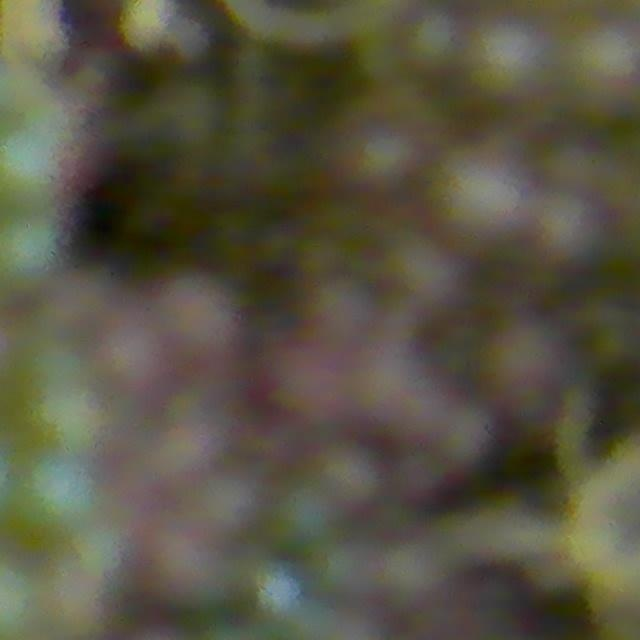SeaGrape: (431, 139, 535, 247), (265, 330, 355, 431), (465, 16, 555, 105), (561, 17, 640, 117), (151, 259, 232, 355), (8, 455, 94, 539), (140, 525, 221, 614), (0, 120, 71, 215), (530, 191, 610, 271), (16, 387, 100, 463), (139, 422, 210, 492), (318, 443, 384, 511), (191, 463, 255, 533), (0, 218, 56, 292), (26, 331, 88, 393)
